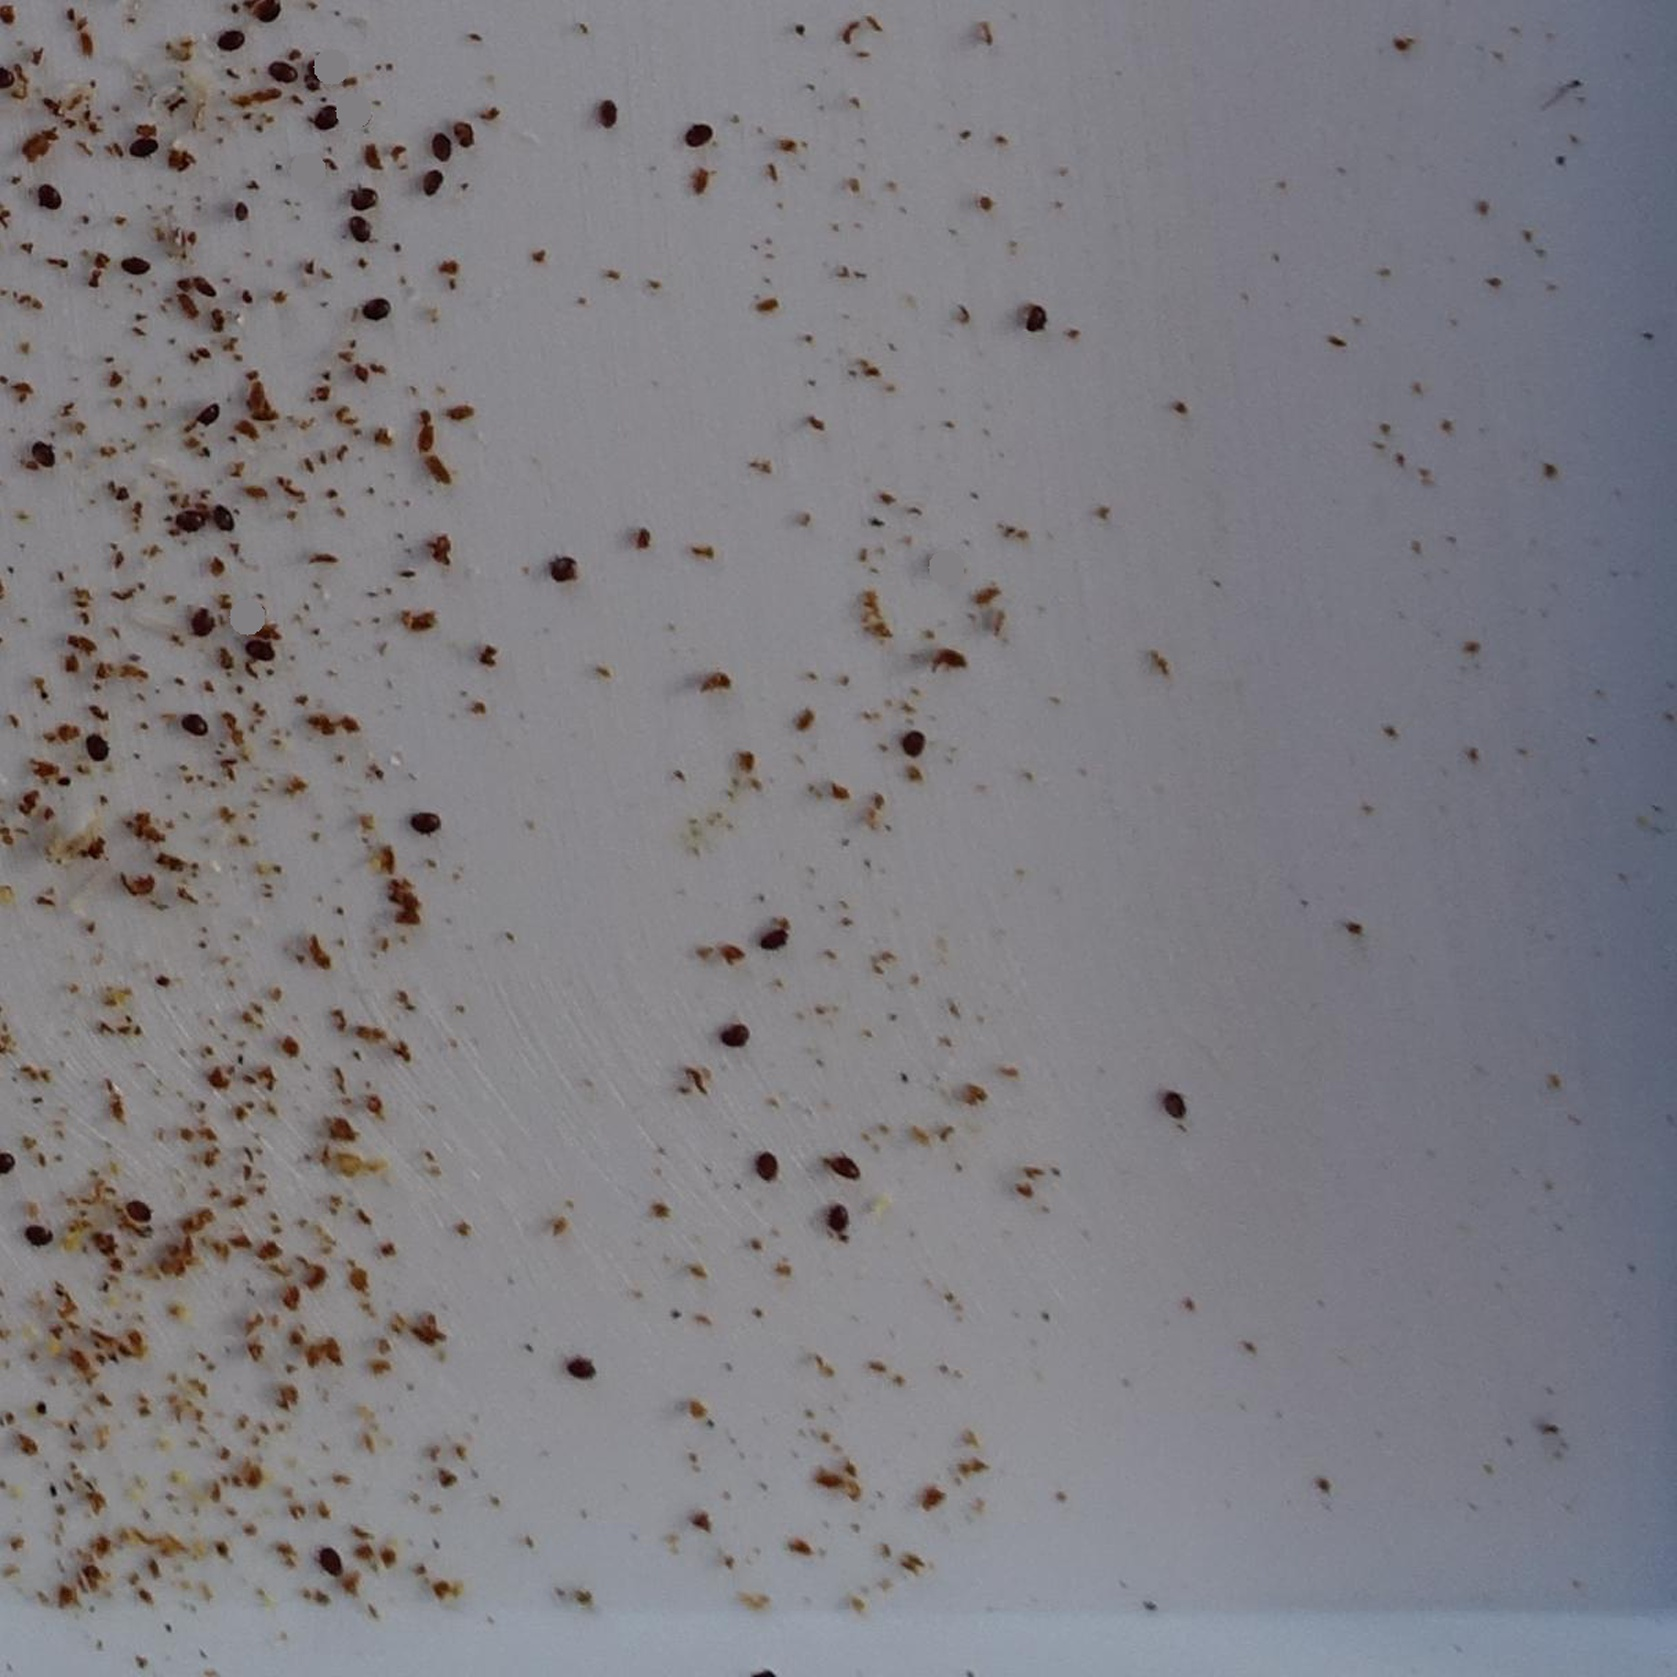Varroa: (547, 550, 582, 587), (754, 921, 788, 957), (299, 57, 332, 91), (189, 398, 221, 430), (118, 241, 150, 273), (564, 1350, 594, 1382), (828, 1156, 858, 1189), (439, 118, 468, 152), (342, 210, 372, 243), (310, 100, 339, 132), (177, 504, 204, 534), (1163, 1090, 1190, 1120), (407, 809, 435, 838), (206, 504, 235, 531), (415, 167, 442, 197), (269, 54, 296, 81), (722, 1021, 749, 1047), (124, 134, 152, 160), (181, 706, 207, 733), (1021, 307, 1047, 333), (29, 442, 54, 470), (825, 1198, 849, 1224), (365, 292, 390, 318), (686, 114, 711, 140), (210, 29, 235, 55), (752, 1152, 777, 1178), (246, 634, 270, 660), (673, 127, 697, 154), (427, 134, 451, 158), (84, 734, 109, 759), (187, 607, 212, 631), (903, 734, 926, 759), (35, 183, 58, 207), (25, 1221, 48, 1245), (349, 183, 372, 206), (326, 1550, 347, 1573), (126, 1199, 147, 1222)
